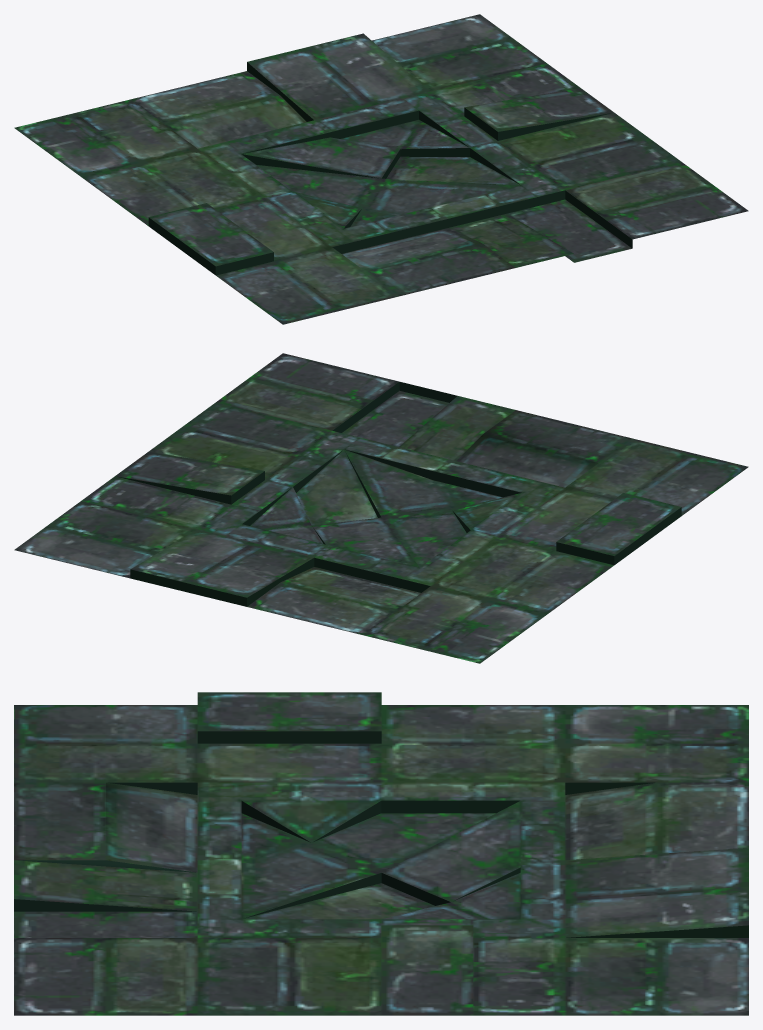
The model's file is stemple_floor_blank_01_e.fbx.
3 views of the same model, one above another, from view 1: azimuth 30°, elevation 25°; view 2: azimuth 150°, elevation 25°; view 3: azimuth 270°, elevation 25° (orthographic). The views are drawn at different scales.
Parts seen in each view (by area): view 1: stemple_floor_blank_01_e-0; view 2: stemple_floor_blank_01_e-0; view 3: stemple_floor_blank_01_e-0.
Boxes of the visible parts, <box> form: stemple_floor_blank_01_e-0: <box>14,14,748,324</box>; stemple_floor_blank_01_e-0: <box>14,353,748,663</box>; stemple_floor_blank_01_e-0: <box>14,692,748,1015</box>.
Bounding box in the file's own units: 4 × 0.2124 × 4.
